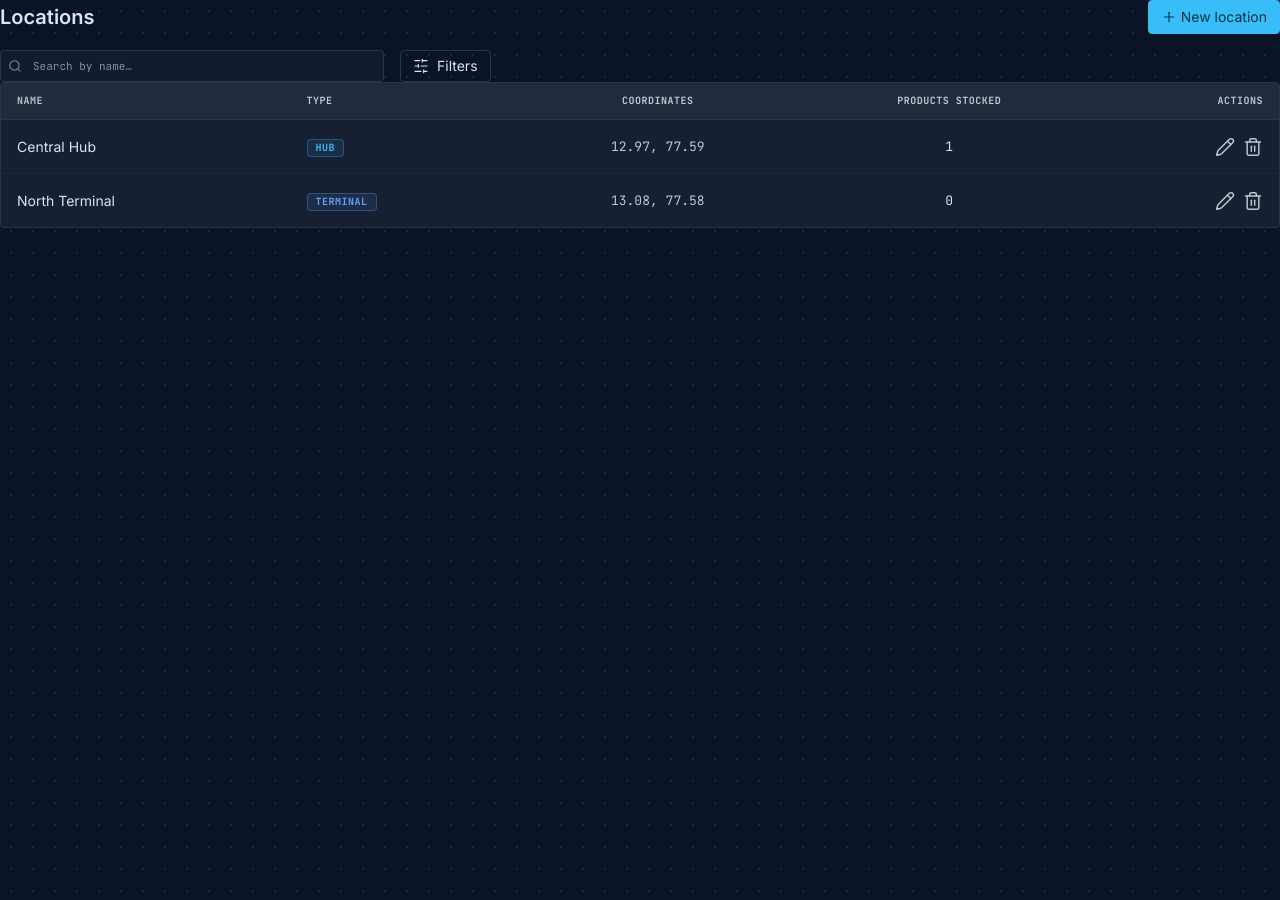
Locations page › requires a name and a product for every stock row
Check: the text "Central Hub" is shown, box [1,120,291,174]
Click the button "New location".
click(1214, 17)  # box [1148,0,1279,34]
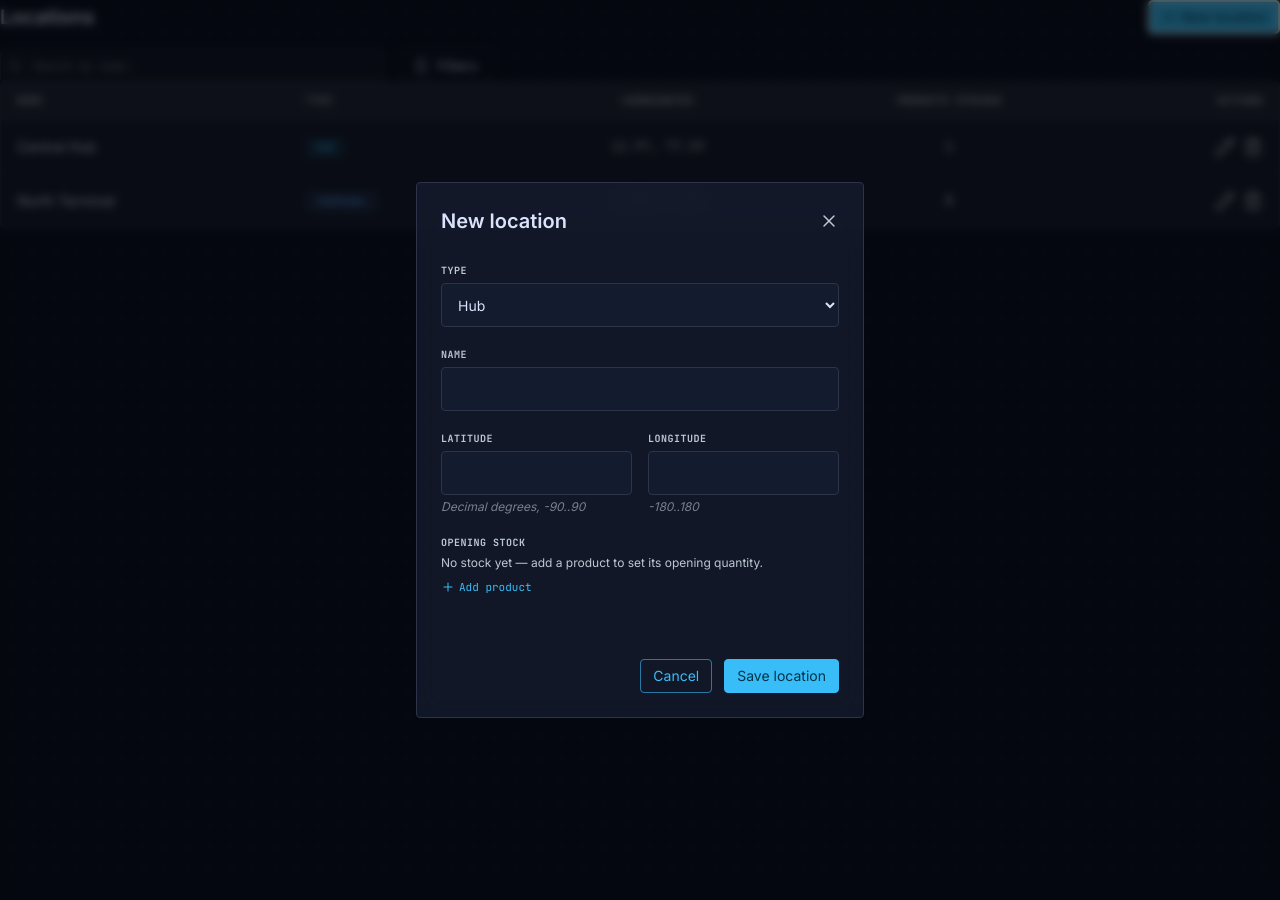
Leave name blank, give valid coords, and add a stock row without picking a product.
Type "12.5" into the field labelled "Latitude".
click(536, 473); type("12.5")  # box [441,451,632,495]
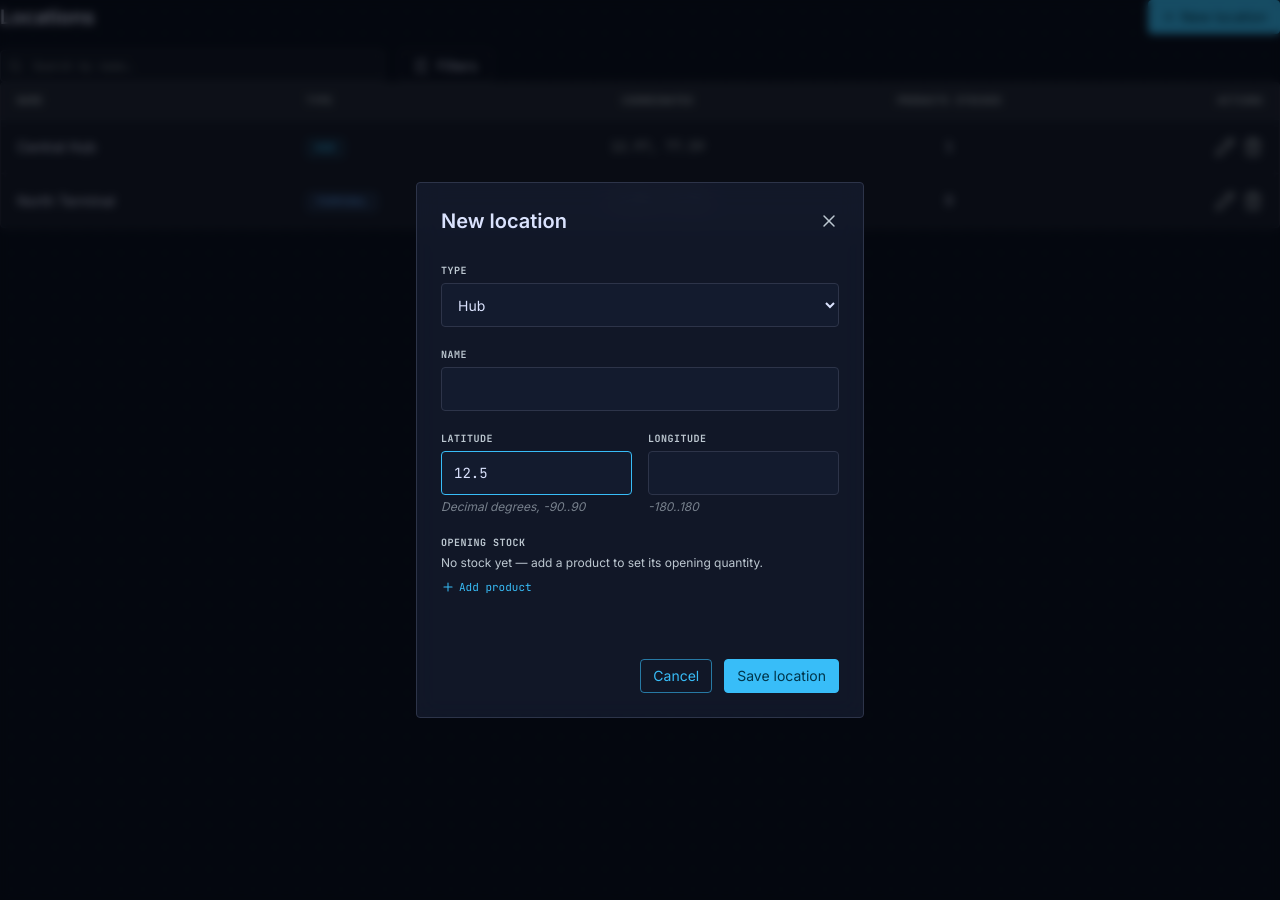
Type "77.1" into the field labelled "Longitude".
click(744, 473); type("77.1")  # box [648,451,839,495]
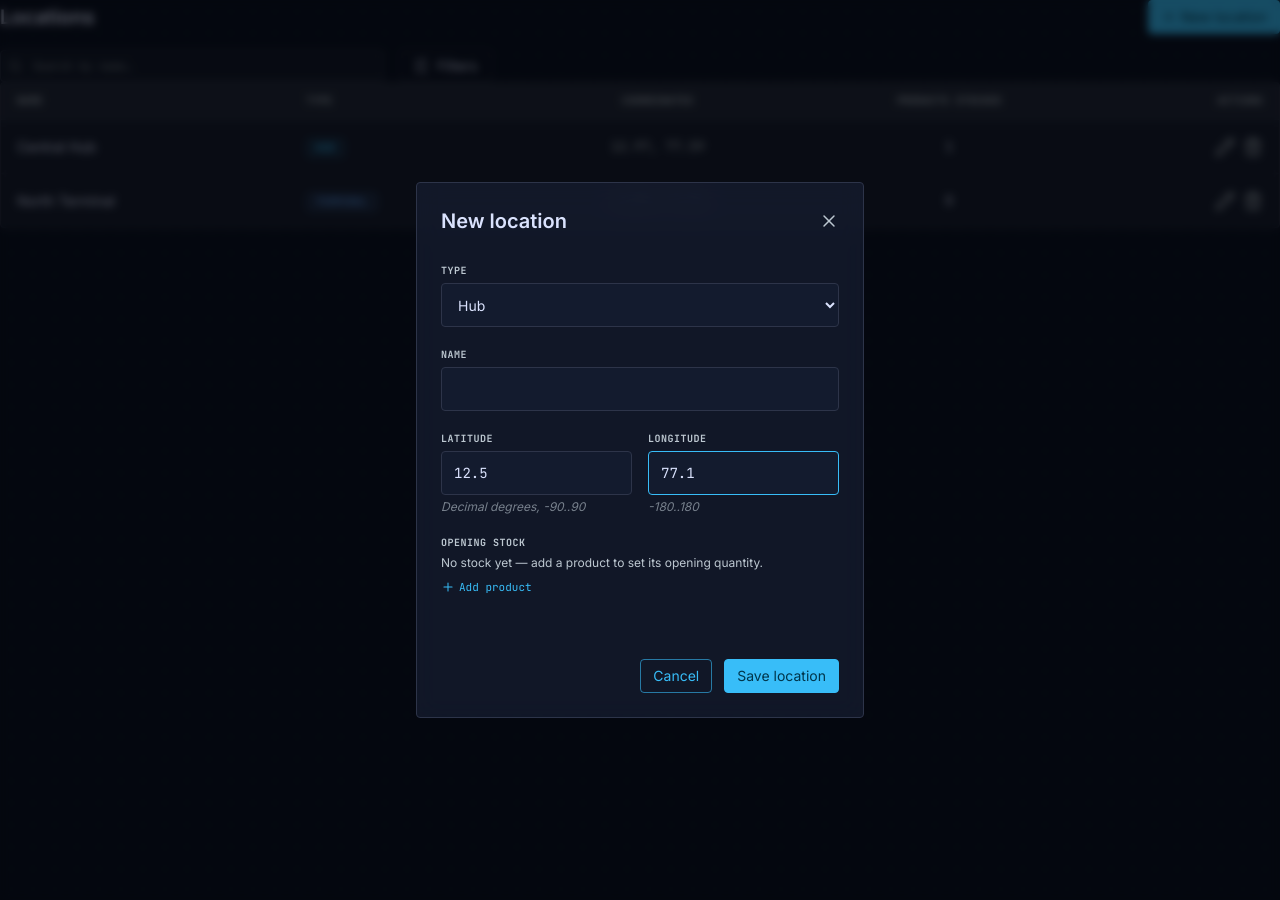
Click the button "Add product".
click(486, 587)  # box [441,579,532,595]
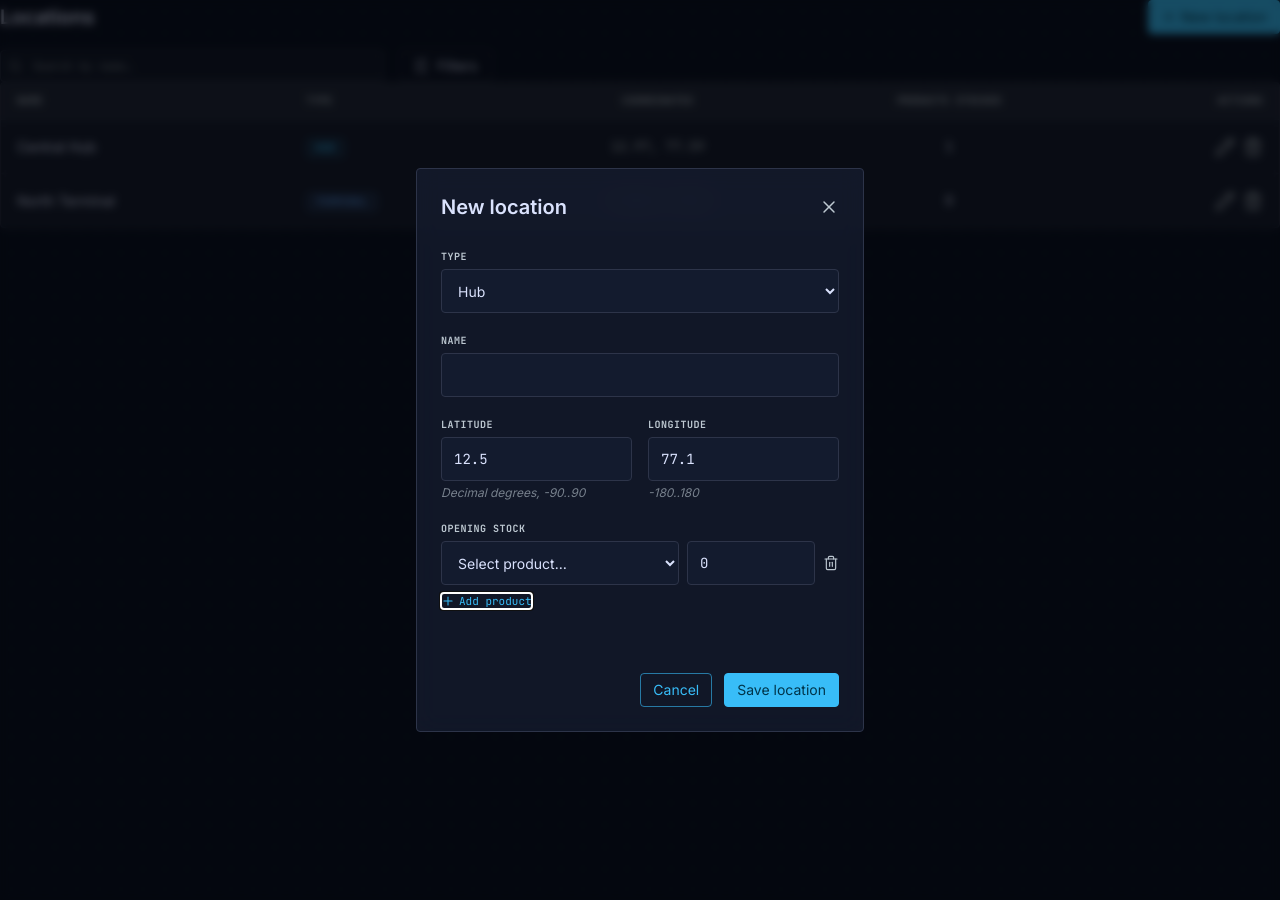
Click the button "Save location".
click(782, 690)  # box [724,673,839,707]
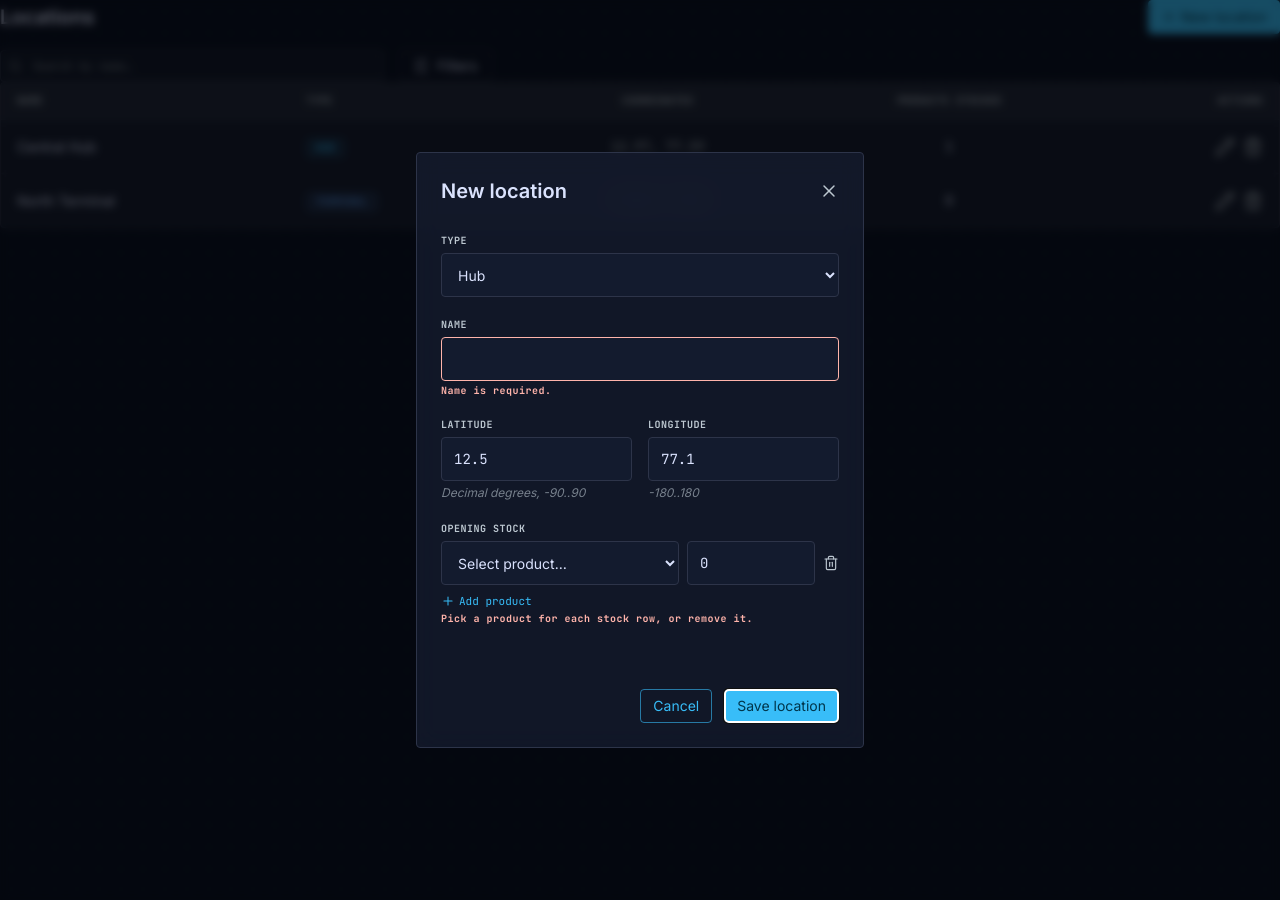
Check: the text "Name is required." is shown, box [441,384,552,397]
Check: the text "Pick a product for each stock row, or remove it." is shown, box [441,612,753,625]
